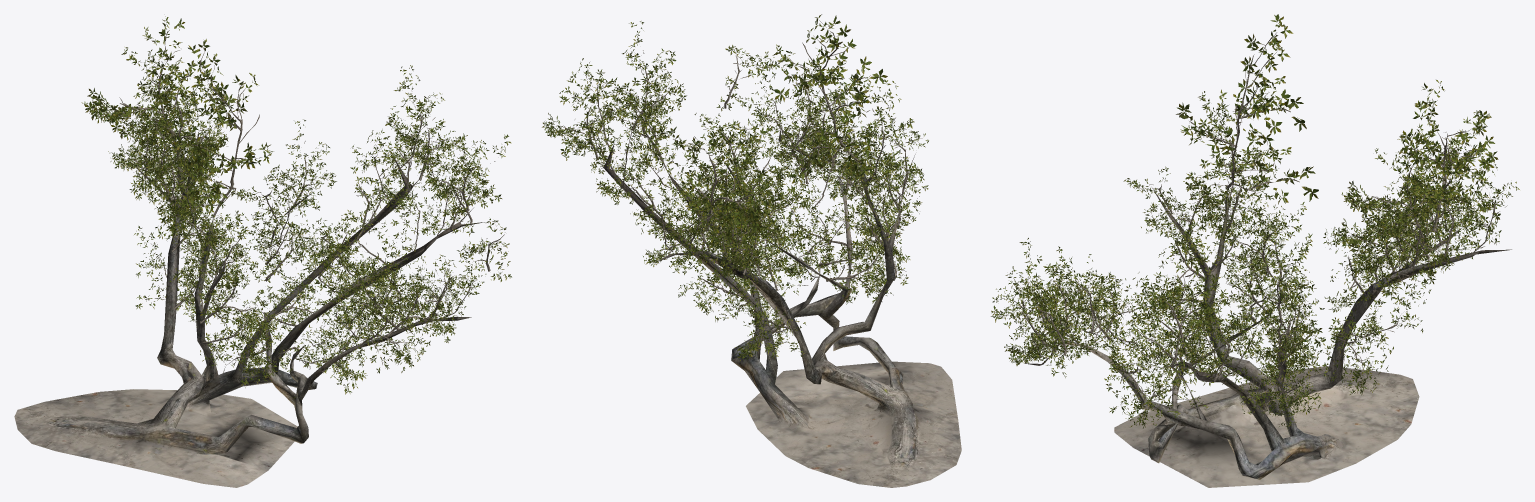
Rendered from island_tree_03_lod0.glb.
The picture shows the model from 3 angles, left to right: view 1: azimuth 30°, elevation 25°; view 2: azimuth 150°, elevation 25°; view 3: azimuth 270°, elevation 25°; orthographic projection. The views are drawn at different scales.
Parts seen in each view (by area): view 1: island_tree_03_LOD0; view 2: island_tree_03_LOD0; view 3: island_tree_03_LOD0.
Part boxes in pixels (bbox=[...]): island_tree_03_LOD0: bbox=[14, 16, 511, 487]; island_tree_03_LOD0: bbox=[542, 14, 961, 487]; island_tree_03_LOD0: bbox=[991, 14, 1519, 487].
Bounding box in the file's own units: 2.96 × 2.61 × 2.91.
3 materials, 3 textured.
